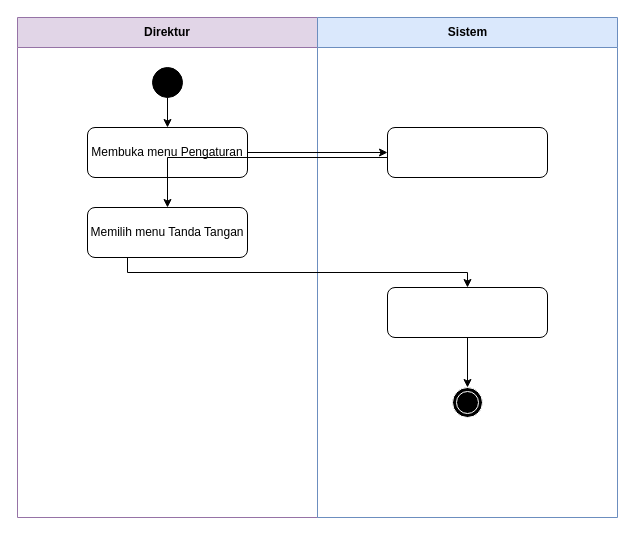
This 635x535 diagram has some shape labels left out. The centre of each missing label's shape, as x and y in pixels:
"Menampilkan daftar tanda tangan" belongs at [467,312].
"Menampilkan opsi pengaturan" belongs at [467,152].
